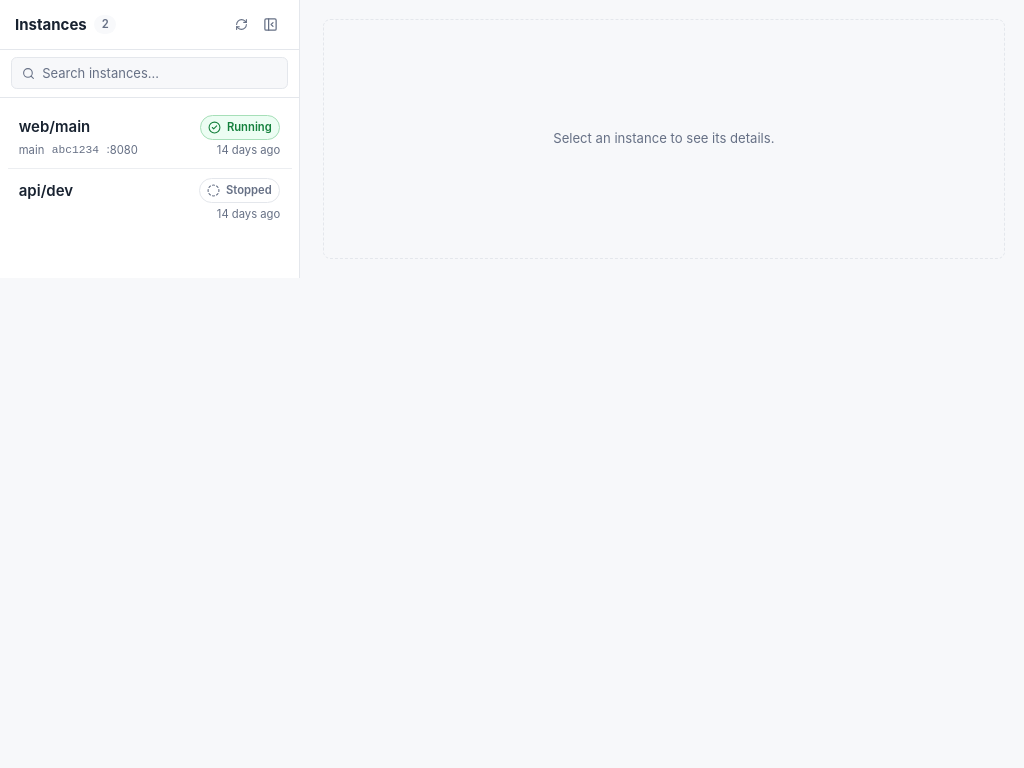
InstancesPage › streams build log lines and shows the terminal status
Click the button "web/main": click(54, 127) left=8, top=105, right=292, bottom=169
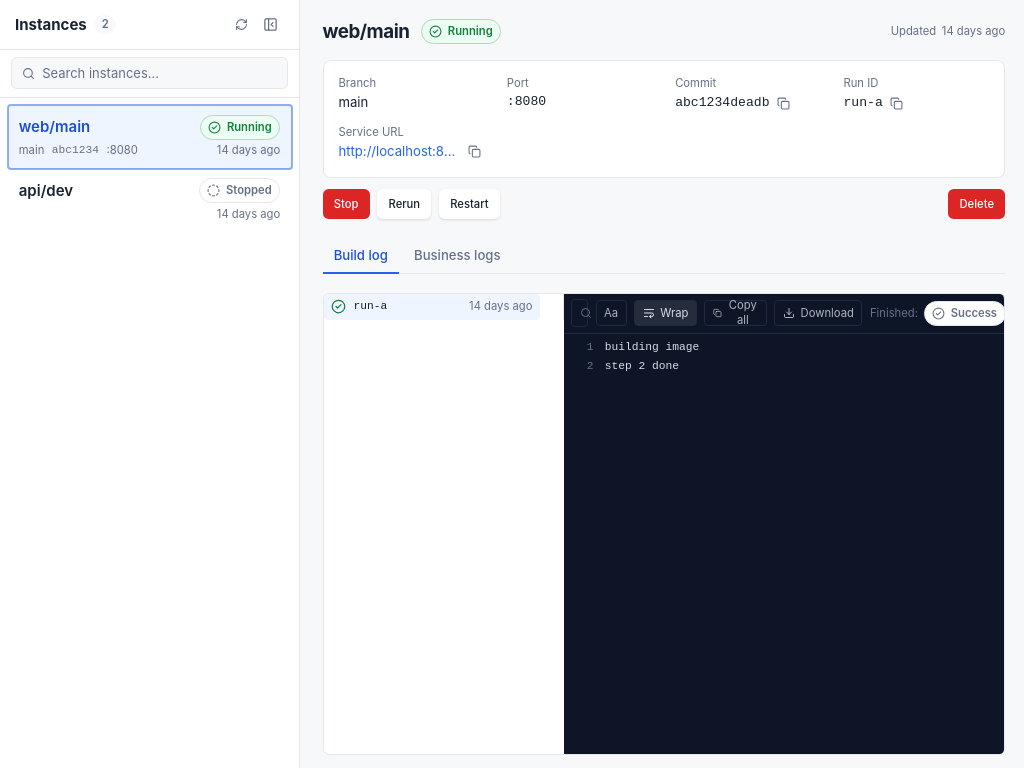
expect the text "building image" is shown: met, box left=605, top=341, right=699, bottom=353
expect the text "step 2 done" is shown: met, box left=605, top=360, right=679, bottom=372
expect the text "Success" is shown: met, box left=924, top=301, right=1004, bottom=326
